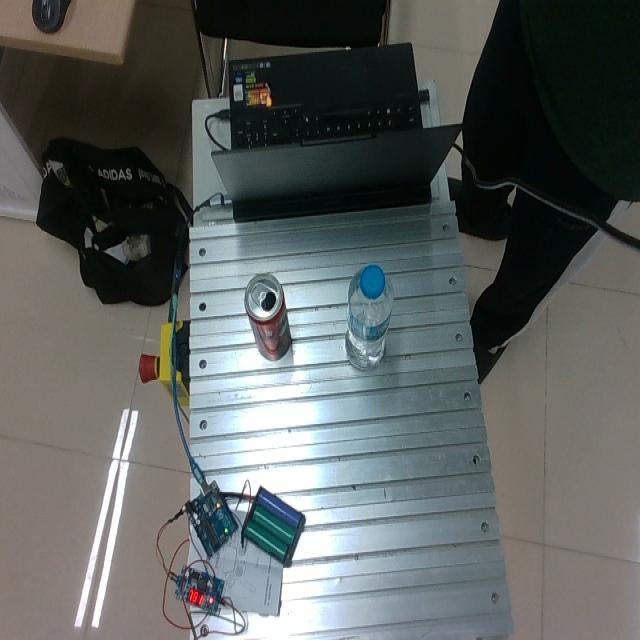coca: (244, 272, 290, 360)
lavie: (344, 264, 393, 371)
